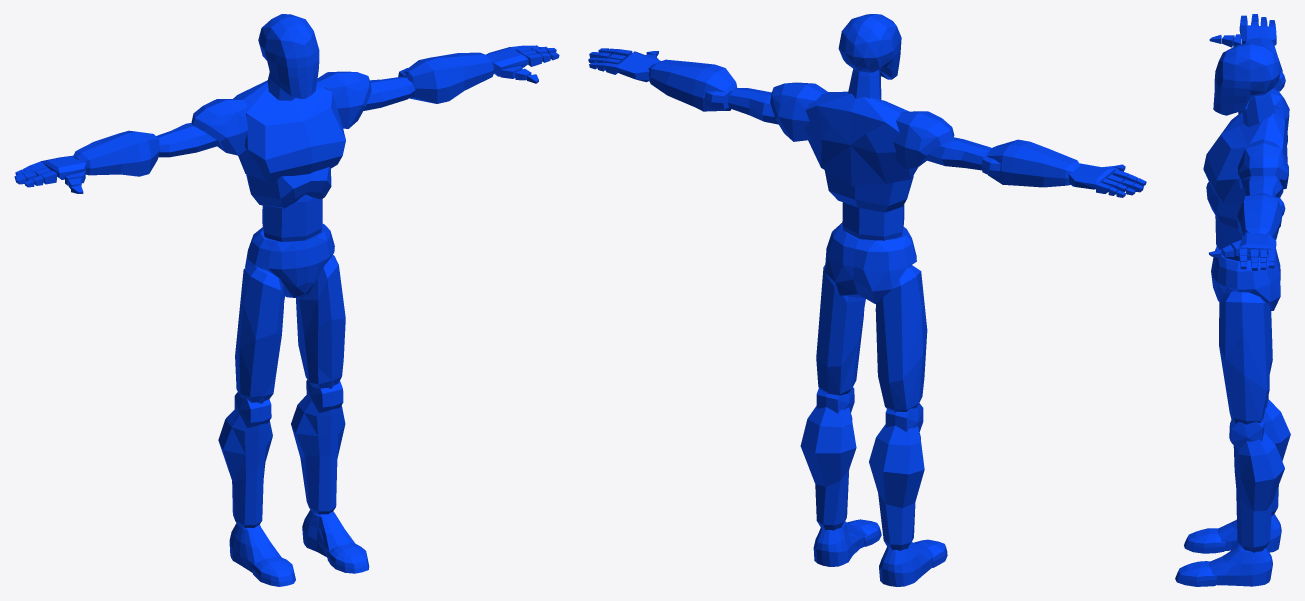
File: BasicCriypticman.obj
3 views of the same model, side by side, from view 1: azimuth 30°, elevation 25°; view 2: azimuth 150°, elevation 25°; view 3: azimuth 270°, elevation 25° (orthographic). The views are drawn at different scales.
Visible parts, largest first — view 1: Mesh_Chest_Hero1, Mesh_RuLeg_Hero1, Mesh_LuLeg_Hero1, Mesh_LlLeg_Hero1, Mesh_RlLeg_Hero1, Mesh_Head_Hero1, Mesh_Hips_Hero1, Mesh_LlArm_Hero1, Mesh_RlArm_Hero1, Mesh_Rdelt_Hero1, Mesh_Waist_Hero1, Mesh_Ribs_Hero1 (+10 smaller); view 2: Mesh_Chest_Hero1, Mesh_RuLeg_Hero1, Mesh_RlLeg_Hero1, Mesh_LlLeg_Hero1, Mesh_Hips_Hero1, Mesh_LuLeg_Hero1, Mesh_Head_Hero1, Mesh_RlArm_Hero1, Mesh_LlArm_Hero1, Mesh_Rdelt_Hero1, Mesh_Ldelt_Hero1, Mesh_Ribs_Hero1 (+9 smaller); view 3: Mesh_LuLeg_Hero1, Mesh_LlLeg_Hero1, Mesh_Chest_Hero1, Mesh_Head_Hero1, Mesh_Hips_Hero1, Mesh_Lfoot_Hero1, Mesh_Ldelt_Hero1, Mesh_LlArm_Hero1, Mesh_RlLeg_Hero1, Mesh_Ltoes_Hero1, Mesh_Rtoes_Hero1, Mesh_Rfoot_Hero1 (+9 smaller).
Boxes of the visible parts, x1,y1,x2,y2 form: Mesh_Chest_Hero1: [233, 80, 345, 181]; Mesh_RuLeg_Hero1: [235, 265, 284, 403]; Mesh_LuLeg_Hero1: [296, 255, 345, 388]; Mesh_LlLeg_Hero1: [291, 394, 345, 514]; Mesh_RlLeg_Hero1: [218, 409, 272, 528]; Mesh_Head_Hero1: [258, 14, 319, 98]; Mesh_Hips_Hero1: [245, 223, 334, 298]; Mesh_LlArm_Hero1: [404, 52, 494, 103]; Mesh_RlArm_Hero1: [73, 130, 159, 176]; Mesh_Rdelt_Hero1: [191, 99, 247, 155]; Mesh_Waist_Hero1: [262, 194, 322, 241]; Mesh_Ribs_Hero1: [246, 167, 331, 208]; Mesh_Chest_Hero1: [804, 91, 918, 185]; Mesh_RuLeg_Hero1: [875, 265, 927, 411]; Mesh_RlLeg_Hero1: [869, 424, 924, 550]; Mesh_LlLeg_Hero1: [800, 406, 856, 530]; Mesh_Hips_Hero1: [824, 223, 916, 303]; Mesh_LuLeg_Hero1: [816, 265, 865, 395]; Mesh_Head_Hero1: [838, 14, 901, 79]; Mesh_RlArm_Hero1: [987, 139, 1079, 187]; Mesh_LlArm_Hero1: [648, 59, 737, 111]; Mesh_Rdelt_Hero1: [893, 111, 954, 169]; Mesh_Ldelt_Hero1: [770, 82, 827, 141]; Mesh_Ribs_Hero1: [824, 170, 913, 212]; Mesh_LuLeg_Hero1: [1219, 291, 1269, 424]; Mesh_LlLeg_Hero1: [1233, 432, 1284, 552]; Mesh_Chest_Hero1: [1203, 105, 1287, 205]; Mesh_Head_Hero1: [1213, 42, 1280, 115]; Mesh_Hips_Hero1: [1211, 246, 1280, 310]; Mesh_Lfoot_Hero1: [1208, 545, 1272, 586]; Mesh_Ldelt_Hero1: [1238, 139, 1288, 189]; Mesh_LlArm_Hero1: [1237, 193, 1282, 239]; Mesh_RlLeg_Hero1: [1263, 399, 1290, 516]; Mesh_Ltoes_Hero1: [1175, 561, 1216, 586]; Mesh_Rtoes_Hero1: [1184, 528, 1225, 553]; Mesh_Rfoot_Hero1: [1217, 514, 1281, 552].
Size of the model in its own units: 6.51 by 6.19 by 1.25.
